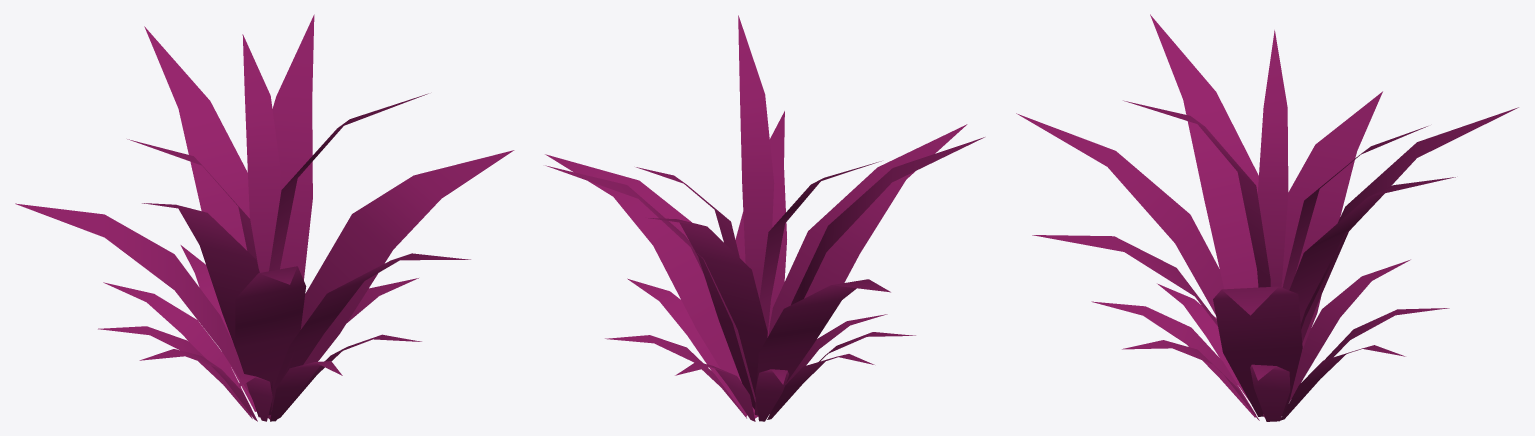
File: bush_tall 1.fbx
3 renders of one model, left to right at view 1: azimuth 30°, elevation 25°; view 2: azimuth 150°, elevation 25°; view 3: azimuth 270°, elevation 25°, orthographic. The views are drawn at different scales.
Visible parts, largest first — view 1: bush_tall; view 2: bush_tall; view 3: bush_tall.
Boxes of the visible parts, x1=… form: bush_tall: x1=15, y1=14, x2=514, y2=421; bush_tall: x1=545, y1=15, x2=984, y2=421; bush_tall: x1=1016, y1=14, x2=1518, y2=421.
Bounding box in the file's own units: 60.51 × 46.99 × 59.05.
1 material, 1 textured.
